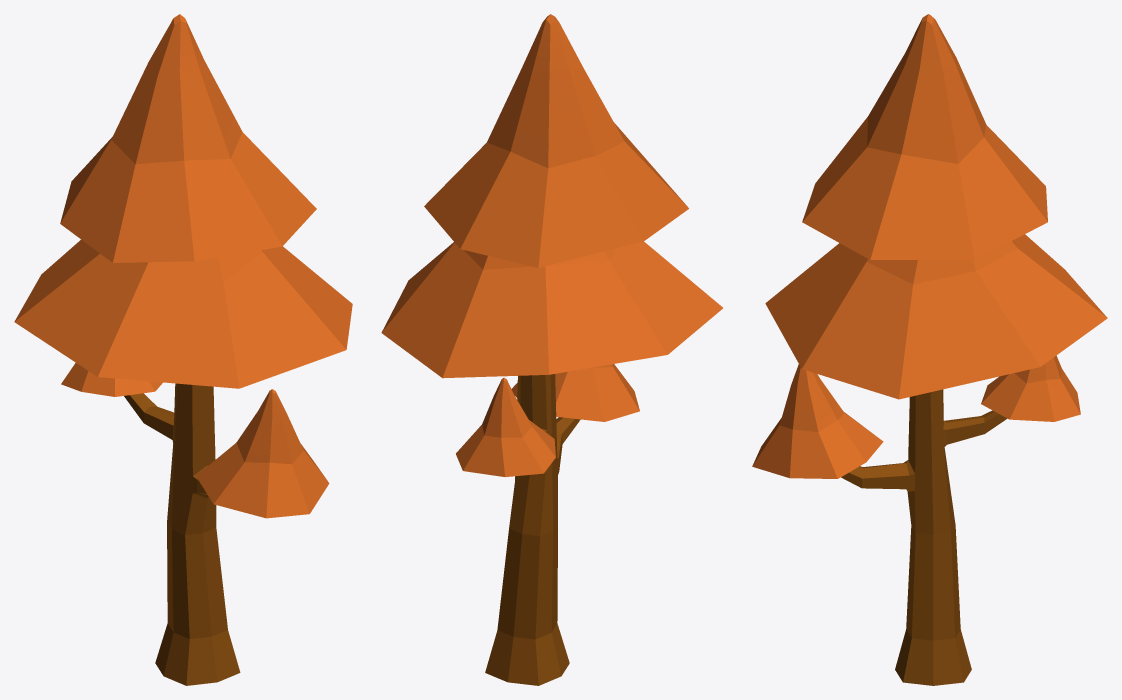
The model's file is Pine_Trees_Pack_Tree_stem_01.023.fbx.
3 views of the same model, side by side, from view 1: azimuth 30°, elevation 25°; view 2: azimuth 150°, elevation 25°; view 3: azimuth 270°, elevation 25° (orthographic). The views are drawn at different scales.
Parts seen in each view (by area): view 1: Pine_Trees_Pack_Tree_stem_01.023; view 2: Pine_Trees_Pack_Tree_stem_01.023; view 3: Pine_Trees_Pack_Tree_stem_01.023.
Boxes of the visible parts, bbox=[...] form: Pine_Trees_Pack_Tree_stem_01.023: bbox=[14, 14, 352, 685]; Pine_Trees_Pack_Tree_stem_01.023: bbox=[381, 14, 722, 685]; Pine_Trees_Pack_Tree_stem_01.023: bbox=[752, 14, 1107, 685].
Bounding box in the file's own units: 192 × 404 × 202.
